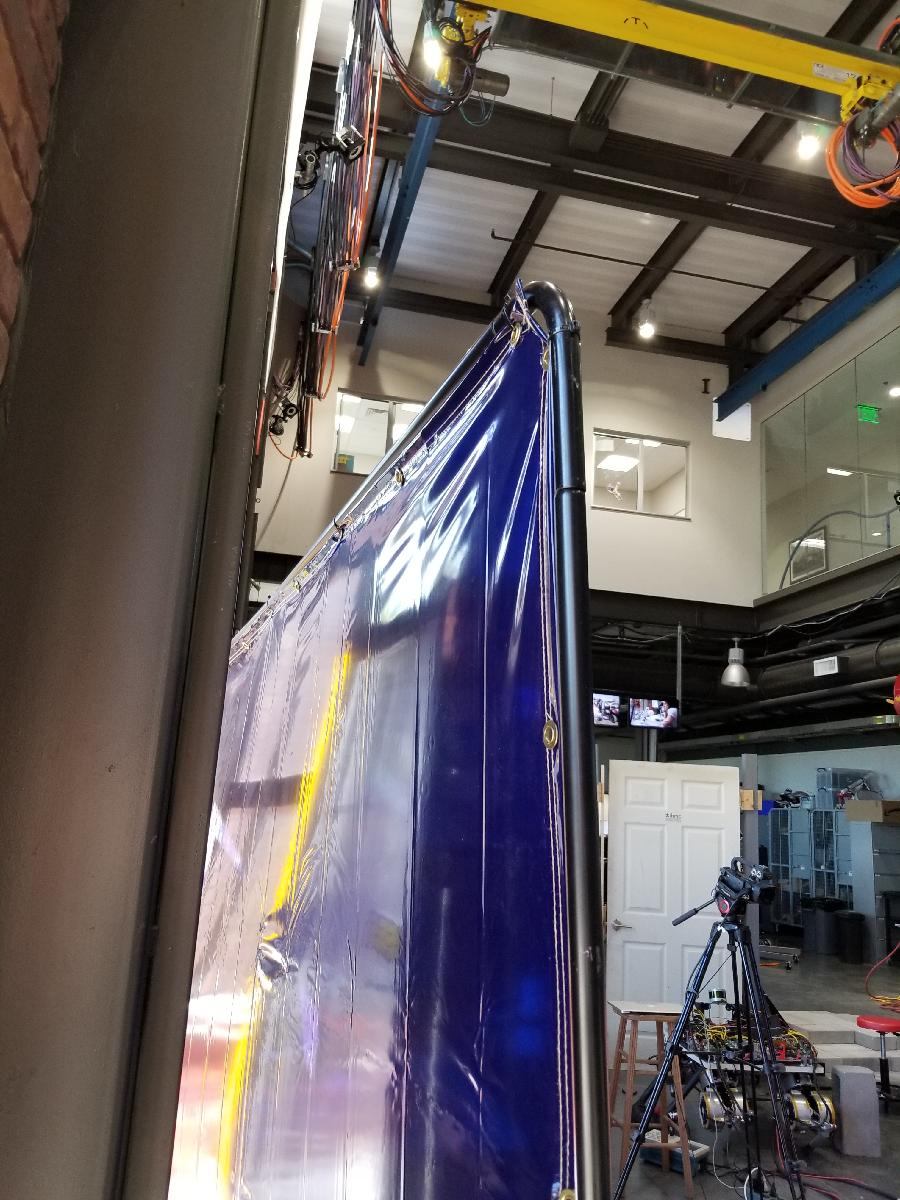door: (605, 755, 743, 1025)
doorHandle: (610, 915, 632, 935)
